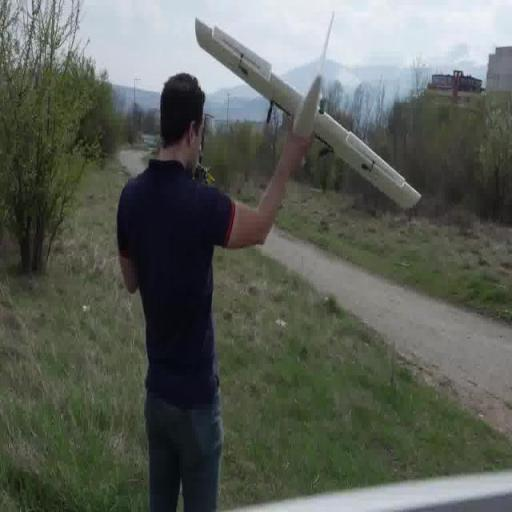uav: (193, 0, 424, 230)
